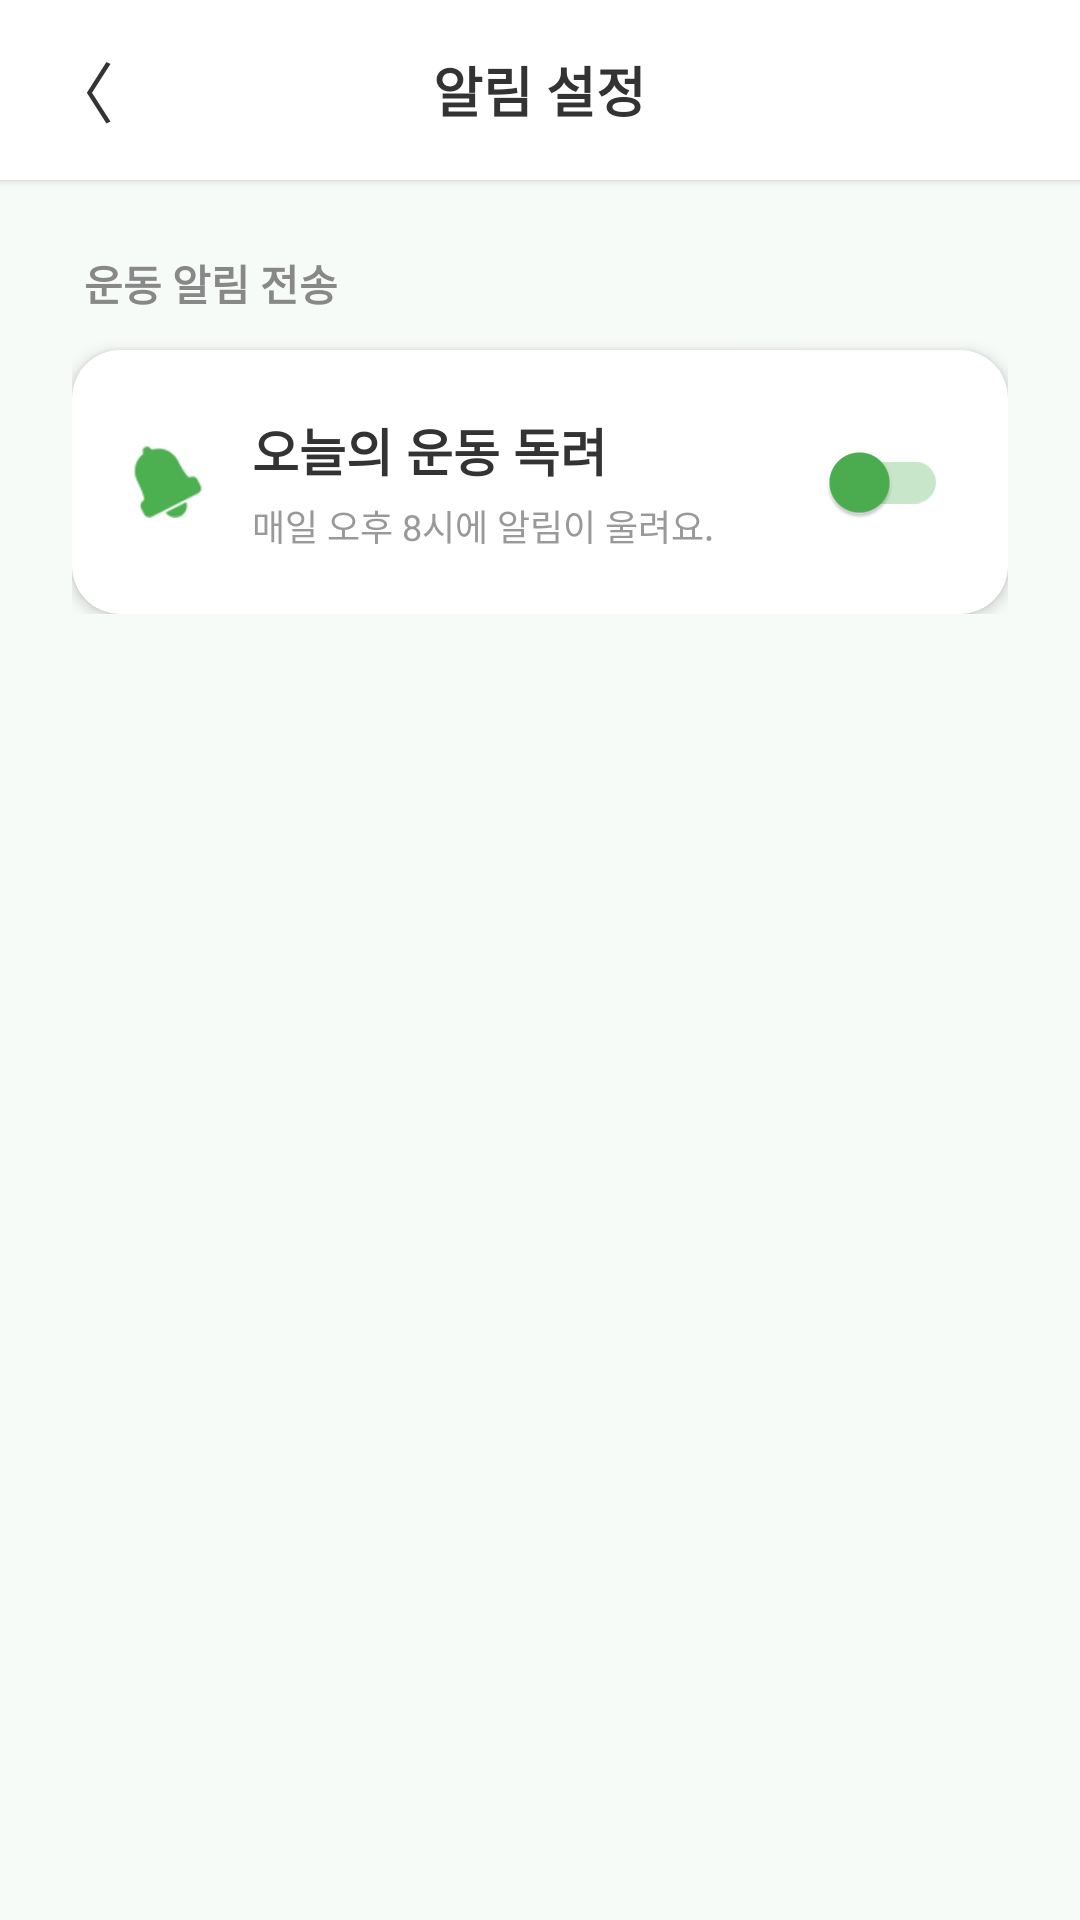

Screen size 1080 × 1920. Icon name, then its center in pixels as [x,y]:
popup reminder: [168,482]
